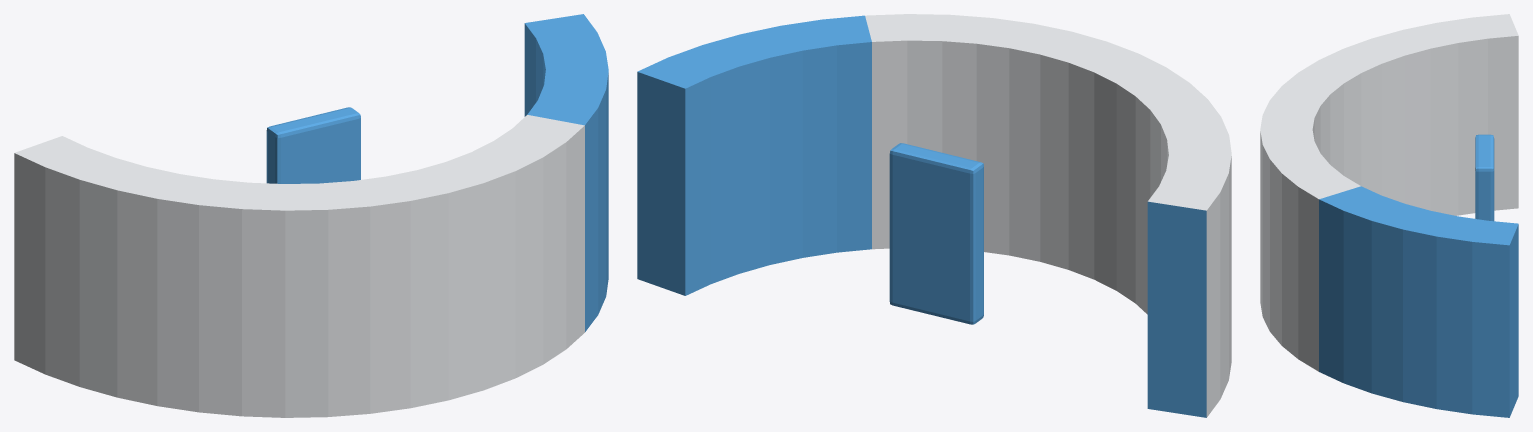
Rendered from waist__wrap_belt.glb.
3 views of the same model, side by side, from view 1: azimuth 30°, elevation 25°; view 2: azimuth 150°, elevation 25°; view 3: azimuth 270°, elevation 25° (orthographic). The views are drawn at different scales.
Parts seen in each view (by area): view 1: armor_armor_waist__wrap_belt_v001_v001; view 2: armor_armor_waist__wrap_belt_v001_v001; view 3: armor_armor_waist__wrap_belt_v001_v001.
Part boxes in pixels (<box>): armor_armor_waist__wrap_belt_v001_v001: <box>14,14,608,417</box>; armor_armor_waist__wrap_belt_v001_v001: <box>637,14,1231,417</box>; armor_armor_waist__wrap_belt_v001_v001: <box>1260,14,1518,417</box>.
Size of the model in its own units: 0.46 by 0.16 by 0.2172.
